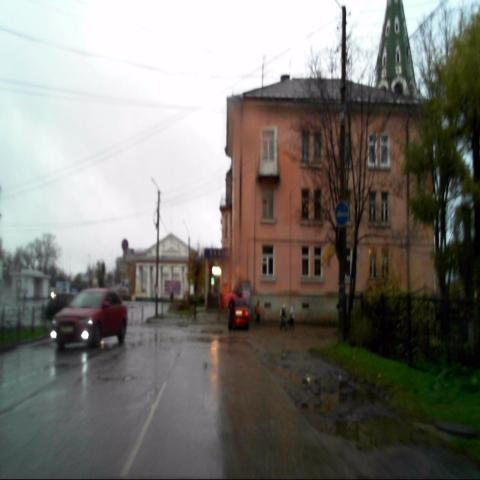4_1_2_2: (334, 201, 348, 227)
